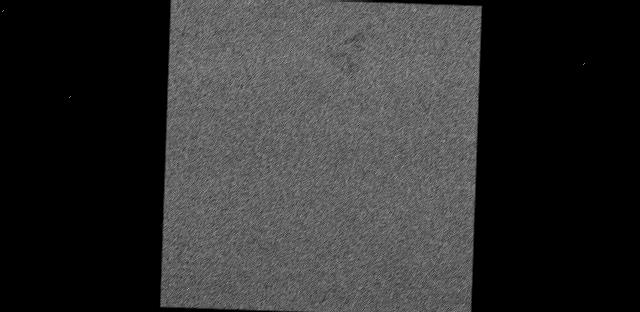water_spot: (314, 23, 378, 80)
